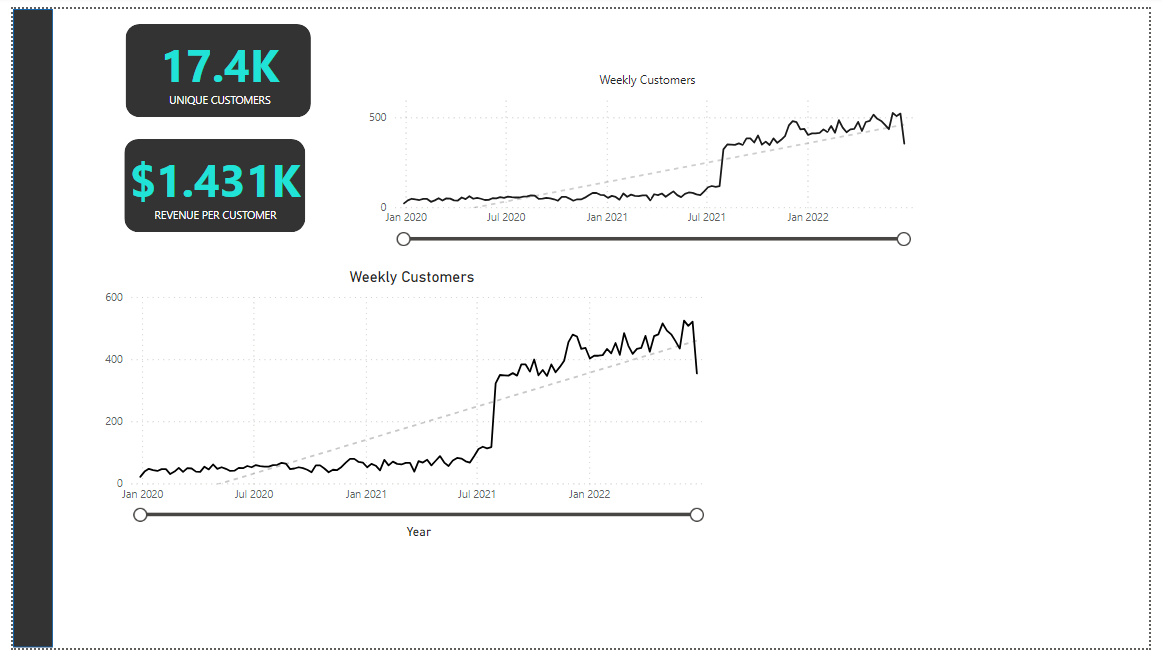

The page's visual inventory and layout, read from the dashboard file:
{"tool":"powerbi","page":{"name":"customer detail","canvas":[1280,720],"ordinal":3},"visuals":[{"type":"shape","box":[0,0,45,719.4],"z":0},{"type":"shape","box":[125.9,146.7,204.1,105.1],"z":1000},{"type":"card","fields":{"Values":["Measure Table.Average revenue per customer"]},"box":[127.1,146.7,202.9,105.1],"z":2000},{"type":"shape","box":[127.1,17.1,209,105.1],"z":3000},{"type":"card","fields":{"Values":["Measure Table.Total Customers"]},"box":[149.1,17.1,167.5,105.1],"z":4000},{"type":"lineChart","title":"Weekly Customers","fields":{"Category":["Calendar Lookup.Start of Week.Variation.Date Hierarchy.Year","Calendar Lookup.Start of Week.Variation.Date Hierarchy.Quarter","Calendar Lookup.Start of Week.Variation.Date Hierarchy.Month","Calendar Lookup.Start of Week.Variation.Date Hierarchy.Day"],"Y":["Measure Table.Total Customers"]},"box":[98.1,291.4,701.2,310.2],"z":5000},{"type":"lineChart","title":"Weekly Customers","fields":{"Y":["Measure Table.Total Customers"],"Category":["Calendar Lookup.Start of Week.Variation.Date Hierarchy.Year","Calendar Lookup.Start of Week.Variation.Date Hierarchy.Quarter","Calendar Lookup.Start of Week.Variation.Date Hierarchy.Month","Calendar Lookup.Start of Week.Variation.Date Hierarchy.Day"]},"box":[395.3,70.7,637.7,199.1],"z":6000}]}

Visuals, with their boxes in screenshot pixels (x1, y1, x2, y2), scaled from the page's 1280x720 canvas onto the 1162x660 screenshot:
shape: pyautogui.locateOnScreen(0, 0, 41, 659)
shape: pyautogui.locateOnScreen(114, 134, 300, 231)
card - Measure Table.Average revenue per customer: pyautogui.locateOnScreen(115, 134, 300, 231)
shape: pyautogui.locateOnScreen(115, 16, 305, 112)
card - Measure Table.Total Customers: pyautogui.locateOnScreen(135, 16, 287, 112)
"Weekly Customers" lineChart: pyautogui.locateOnScreen(89, 267, 726, 551)
"Weekly Customers" lineChart: pyautogui.locateOnScreen(359, 65, 938, 247)
